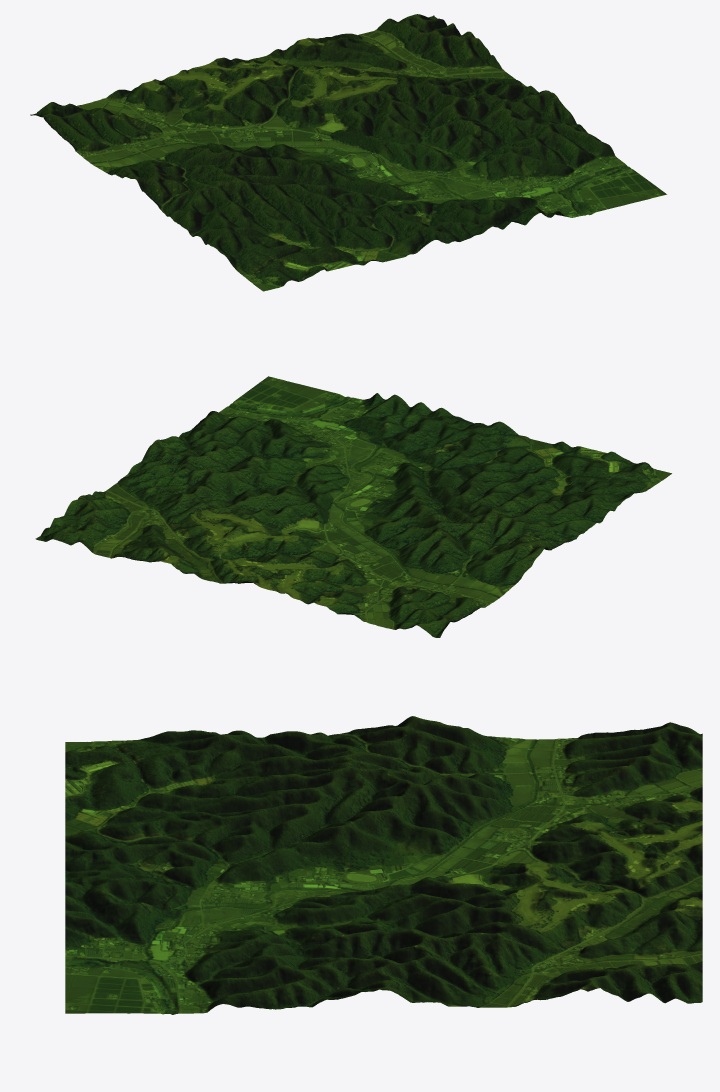
File: tomino 20260914 23m.glb
The picture shows the model from 3 angles, top to bottom: view 1: azimuth 30°, elevation 25°; view 2: azimuth 150°, elevation 25°; view 3: azimuth 270°, elevation 25°; orthographic projection. The views are drawn at different scales.
Visible parts, largest first — view 1: tominodem; view 2: tominodem; view 3: tominodem.
Boxes of the visible parts, x1,y1,x2,y2 form: tominodem: [30, 14, 666, 291]; tominodem: [35, 376, 671, 637]; tominodem: [65, 716, 702, 1014].
Bounding box in the file's own units: 162 × 20.62 × 162.
Materials: 1 (1 with a texture image).
